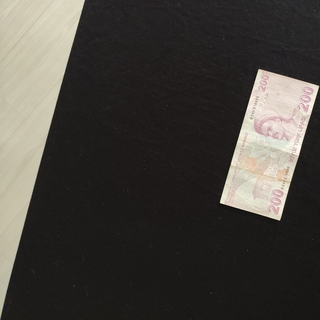200TLBack: (219, 68, 319, 221)
